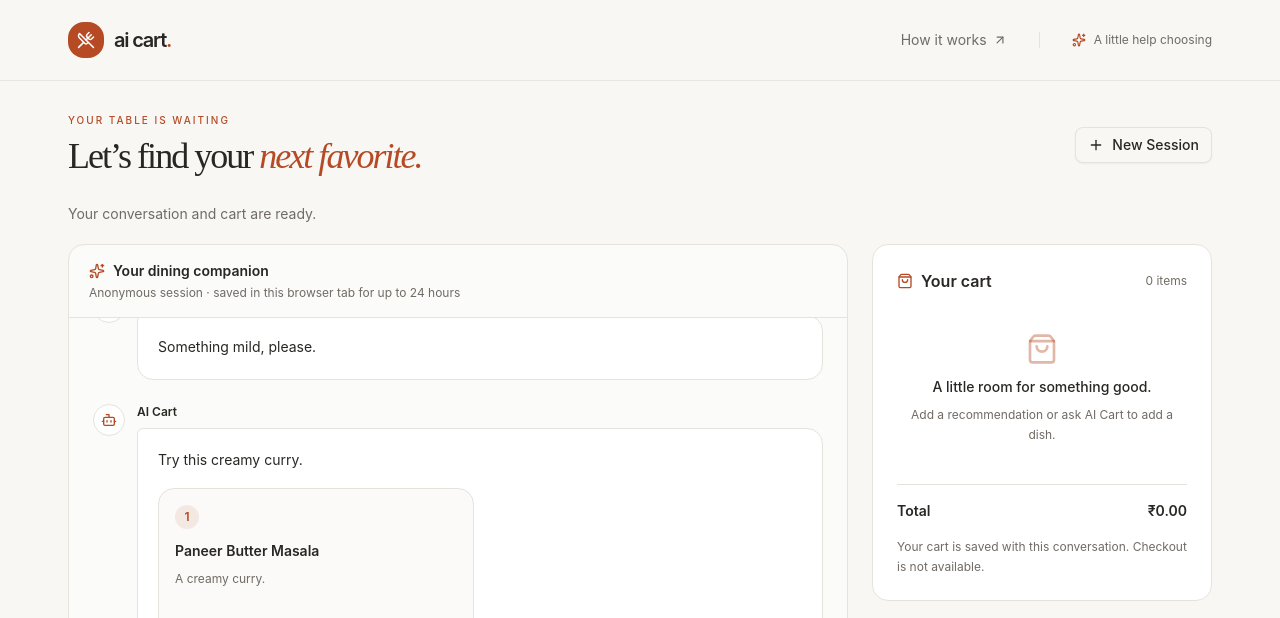
it: stage 2 session experience › confirms destructive reset, permits cancellation, then deletes and replaces the session
(page scrolled)
Expected: the text "Something mild, please." is shown, x1=158 y1=338 x2=316 y2=355
Click the button "New Session".
click(1144, 144)  # box x1=1075 y1=126 x2=1212 y2=162
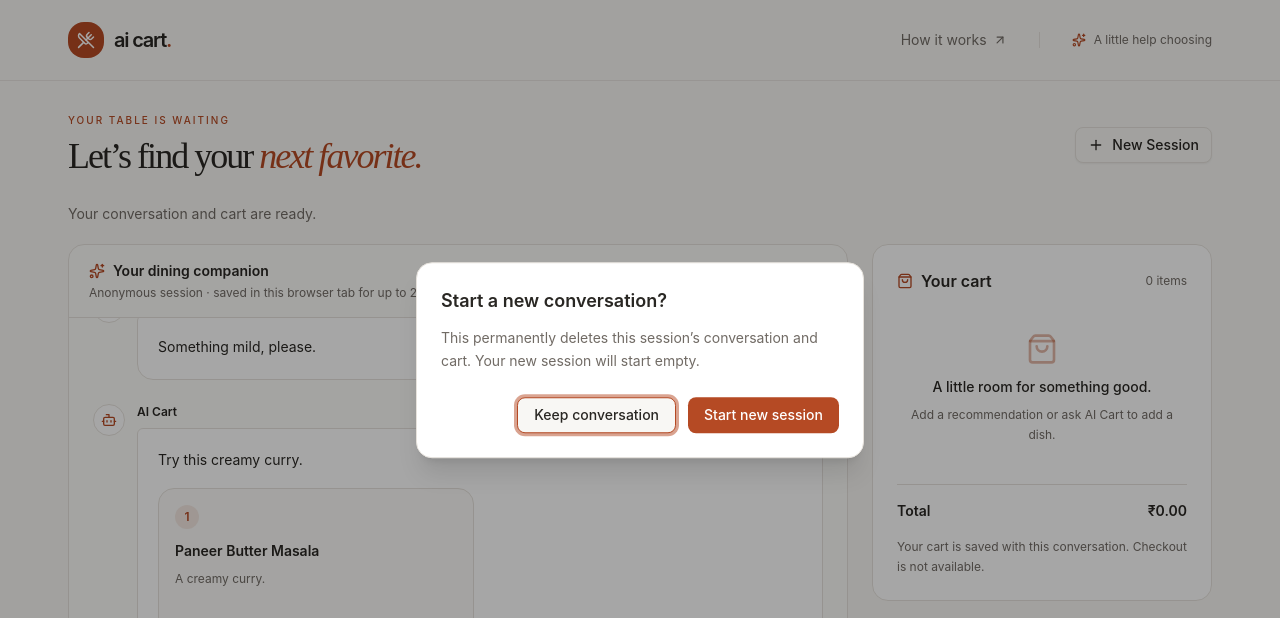
Click the button "Keep conversation".
click(597, 415)  # box x1=517 y1=397 x2=676 y2=433
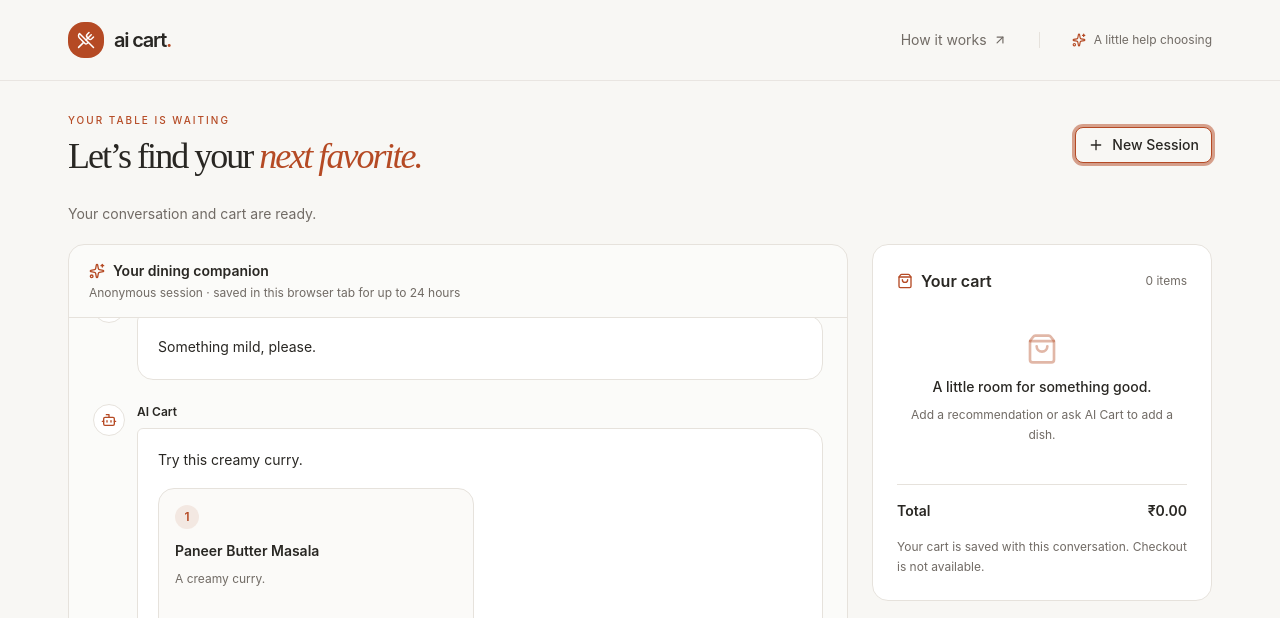
Click the button "New Session".
click(1144, 144)  # box x1=1075 y1=126 x2=1212 y2=162
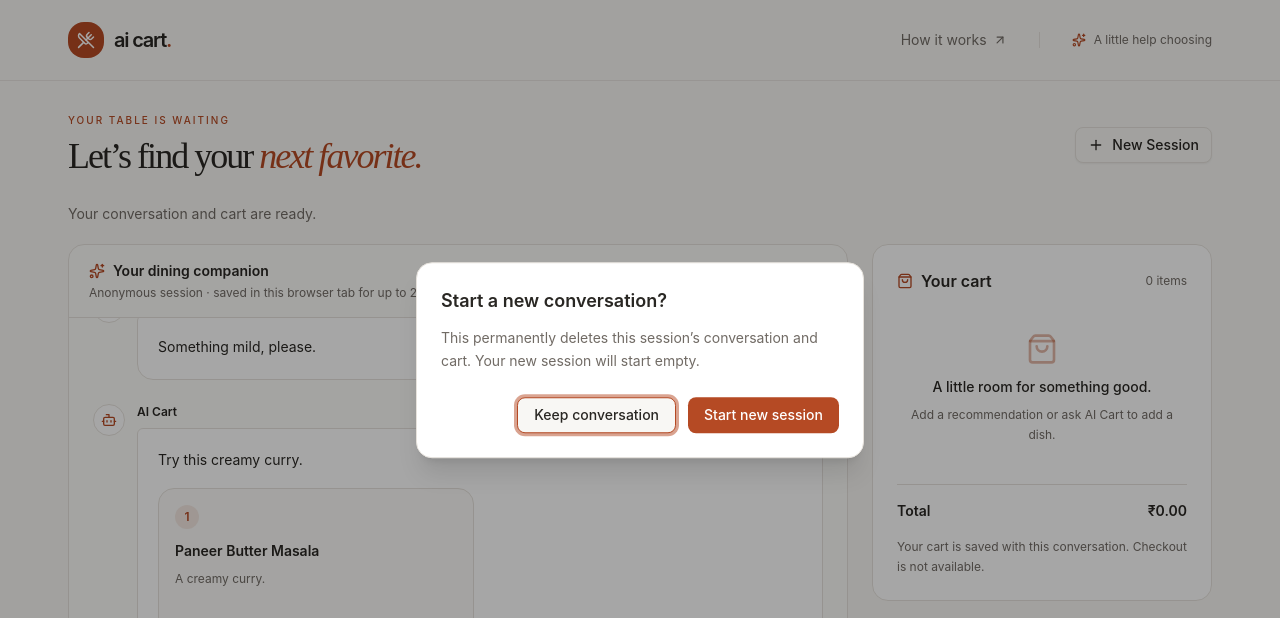
Click the button "Start new session".
click(764, 415)  # box x1=688 y1=397 x2=839 y2=433
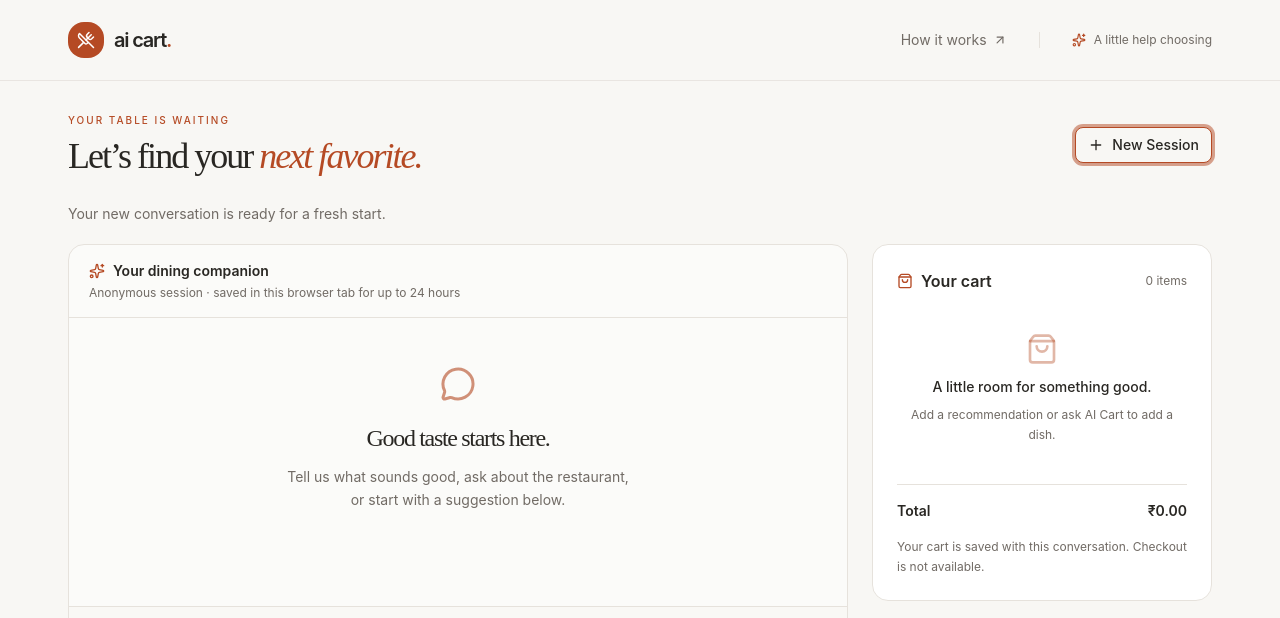
Result: the heading "Good taste starts here." is shown at x1=366 y1=425 x2=549 y2=451
Result: the text "Something mild, please." is gone
